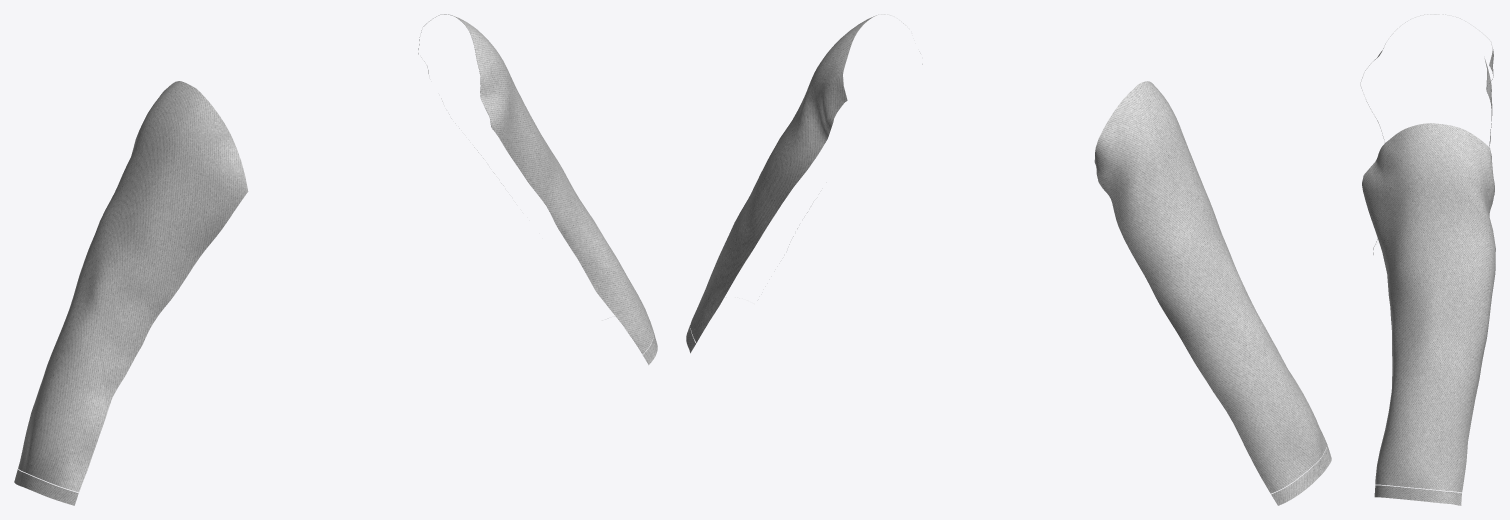
File: Decor_Hand_Up_V1.glb
3 views of the same model, side by side, from view 1: azimuth 30°, elevation 25°; view 2: azimuth 150°, elevation 25°; view 3: azimuth 270°, elevation 25° (orthographic). The views are drawn at different scales.
Visible parts, largest first — view 1: Decor_Hand_Up_V11; view 2: Decor_Hand_Up_V11; view 3: Decor_Hand_Up_V11.
Part boxes in pixels (bbox=[...]): Decor_Hand_Up_V11: bbox=[14, 14, 657, 505]; Decor_Hand_Up_V11: bbox=[686, 14, 1331, 505]; Decor_Hand_Up_V11: bbox=[1360, 14, 1495, 505].
Size of the model in its own units: 1.84 by 1.05 by 0.4045.
Materials: 1 (1 with a texture image).
